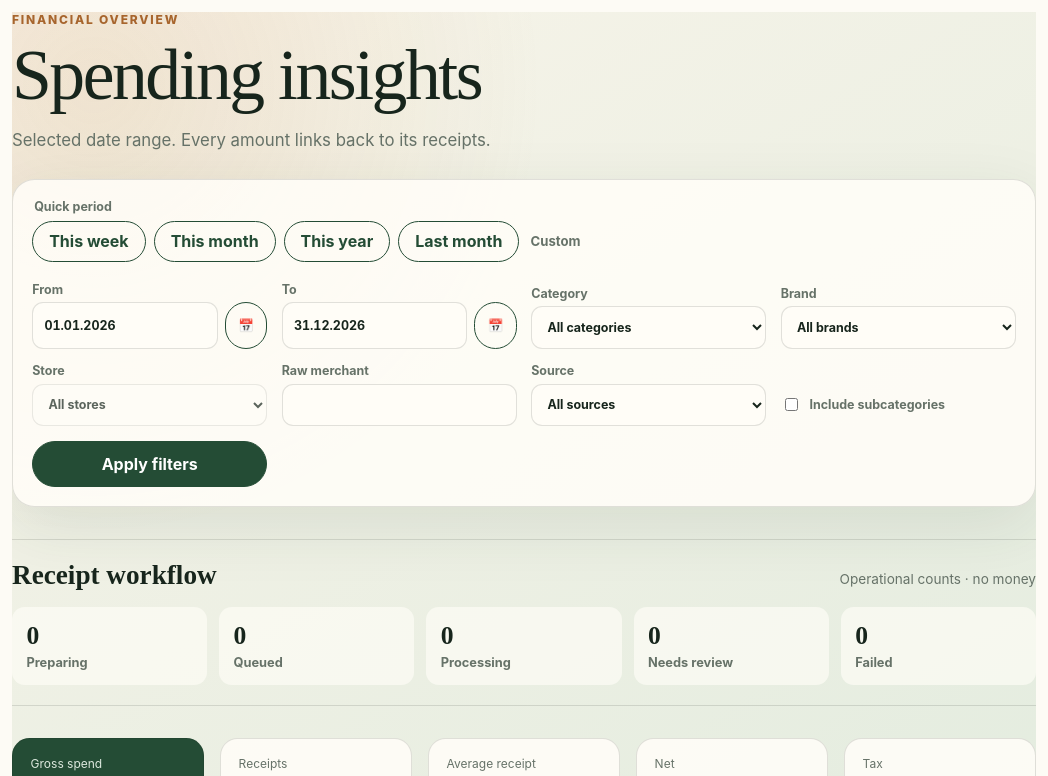
Test case: spending insights › clears stale date errors when applying a preset
Replace the text in the field labelled "From" with "31.02.2026" at coordinates (125, 326), box [32,302,218,349]
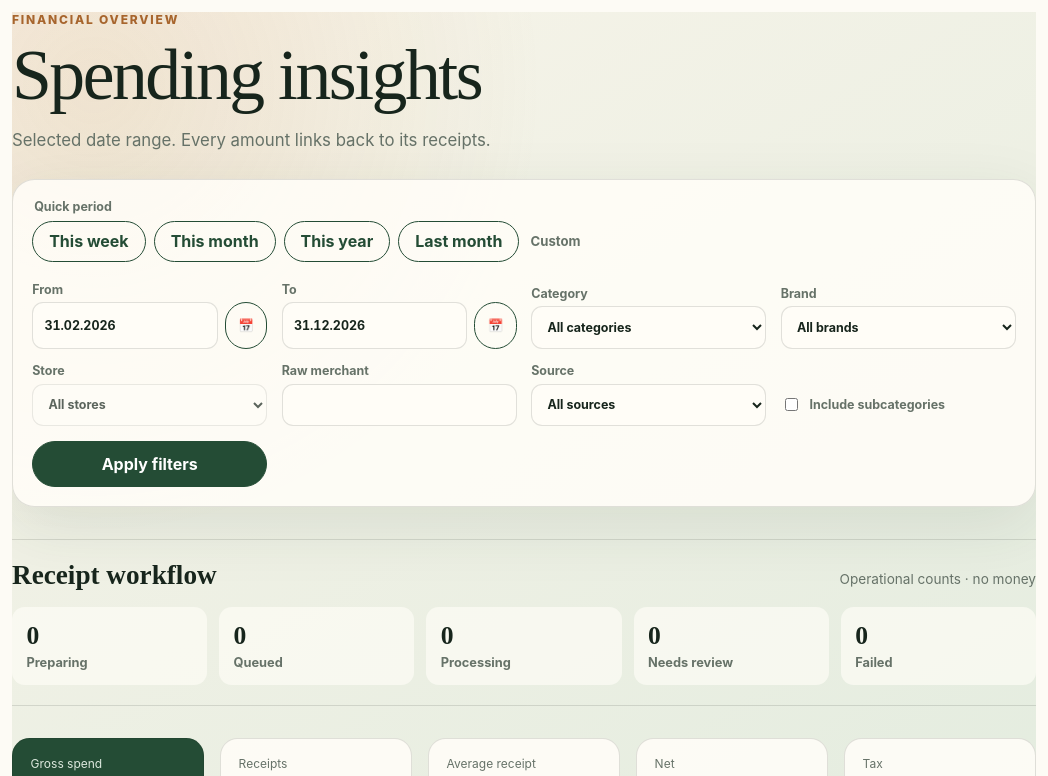
Click the button "Apply filters" at coordinates (150, 464), box [32,440,267,487]
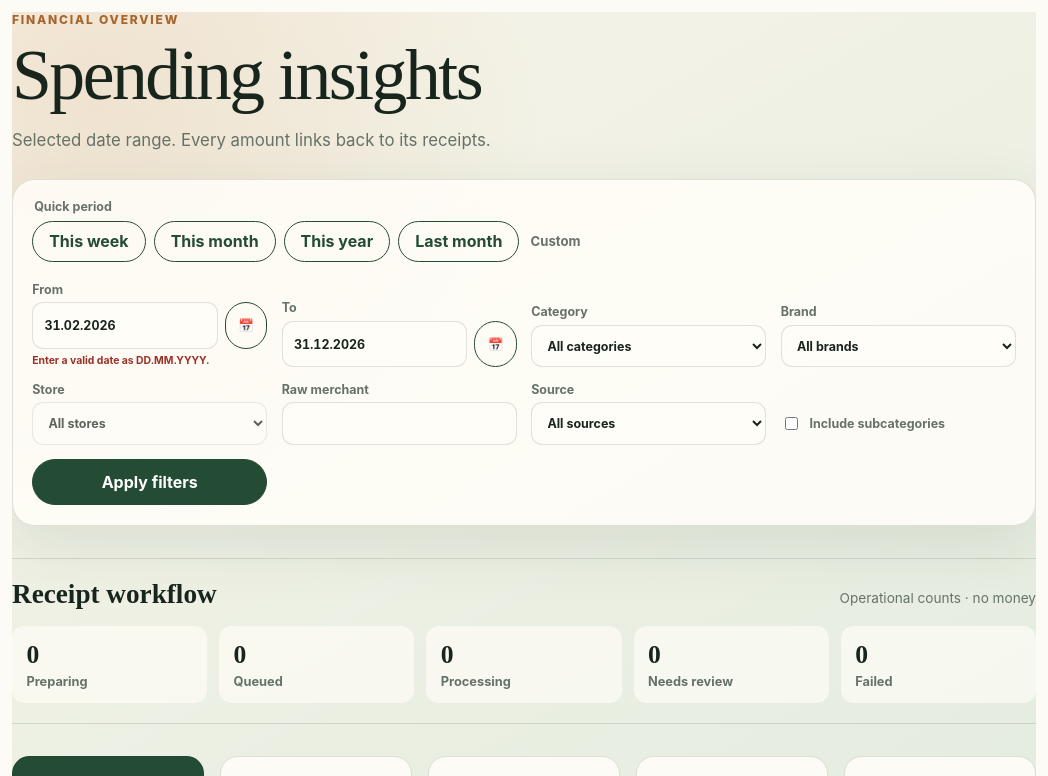
Now the text "Enter a valid date as DD.MM.YYYY." is shown, box [32,354,210,367]
Click the button "This month" at coordinates (215, 241), box [154,221,276,262]
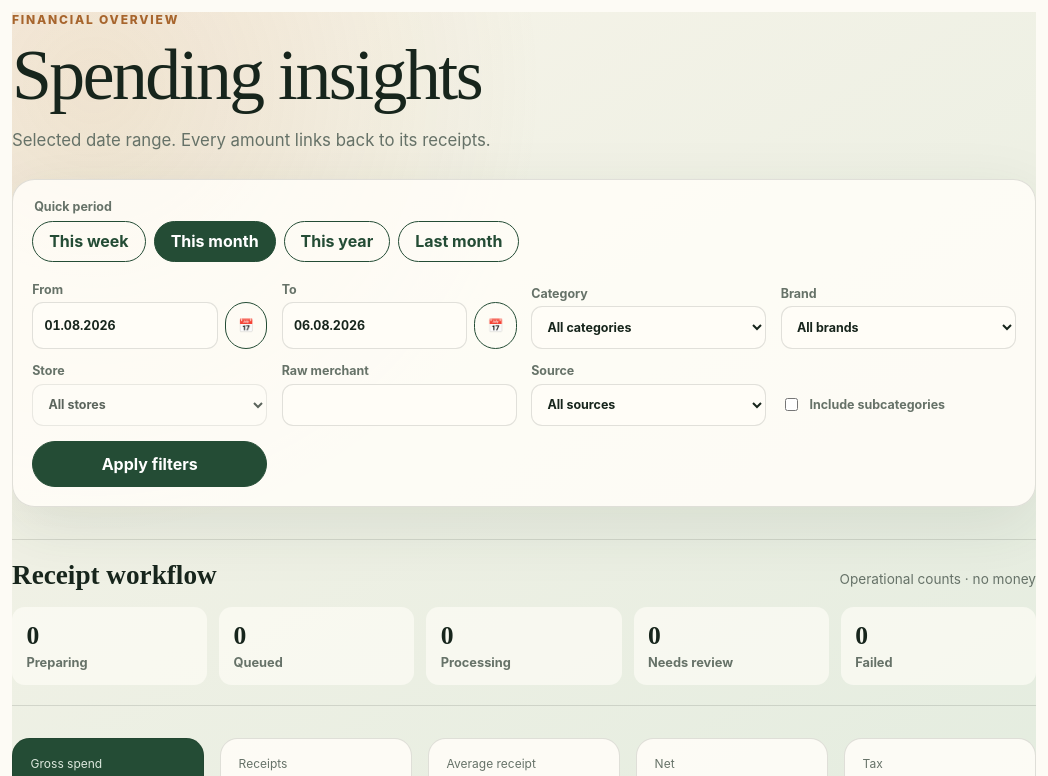
Now the field labelled "From" holds "01.08.2026", box [32,302,218,349]
Now the text "Enter a valid date" is gone
